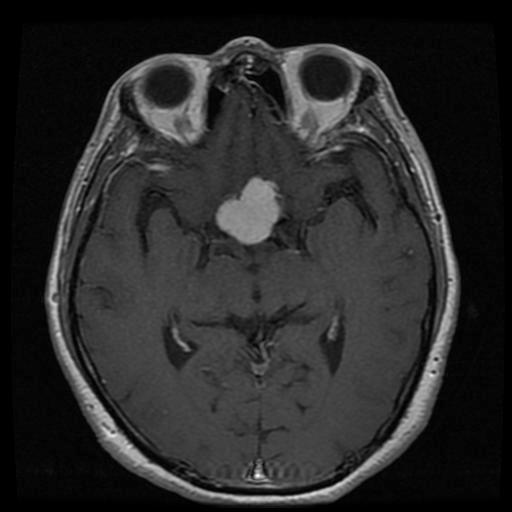Tumour-Meningioma: (198, 160, 304, 269)
